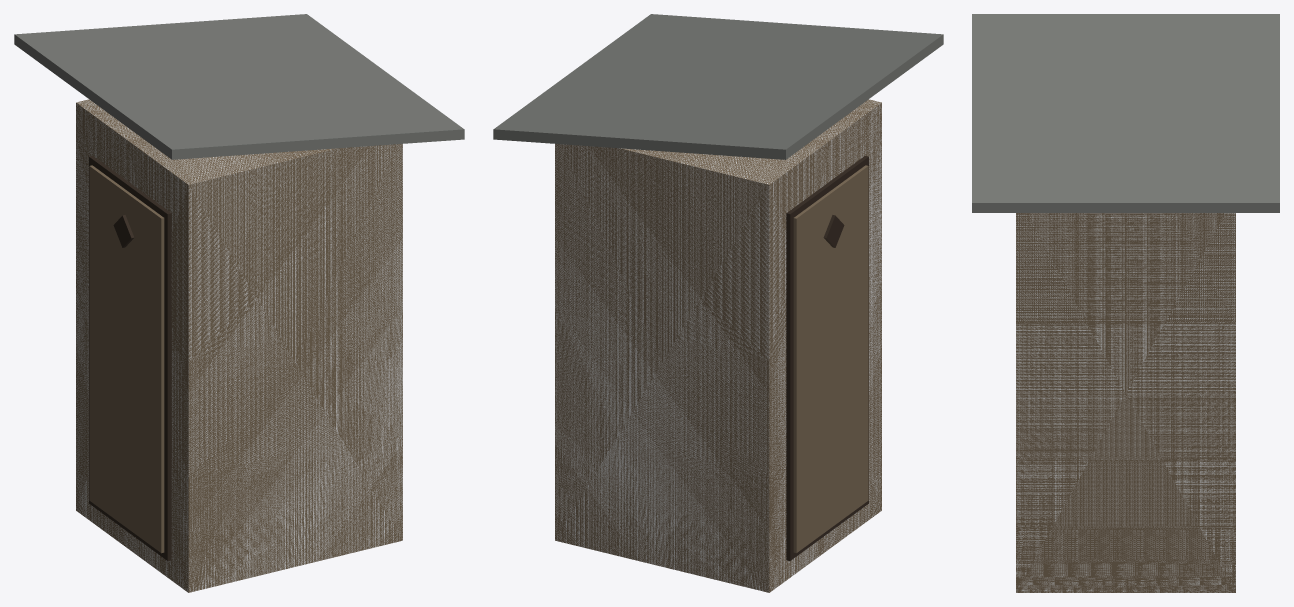
Rendered from izba-outhouse.glb.
The picture shows the model from 3 angles, left to right: view 1: azimuth 30°, elevation 25°; view 2: azimuth 150°, elevation 25°; view 3: azimuth 270°, elevation 25°; orthographic projection. The views are drawn at different scales.
Visible parts, largest first — view 1: 00_#7a6a56, solid, 02_paint2, 01_#3a3028; view 2: 00_#7a6a56, solid, 02_paint2, 01_#3a3028; view 3: 00_#7a6a56, 02_paint2, solid.
Boxes of the visible parts, <box> form: 00_#7a6a56: <box>76,99,402,592</box>; solid: <box>76,99,402,592</box>; 02_paint2: <box>14,14,464,159</box>; 01_#3a3028: <box>89,155,171,560</box>; 00_#7a6a56: <box>555,99,881,592</box>; solid: <box>555,99,881,592</box>; 02_paint2: <box>493,14,943,159</box>; 01_#3a3028: <box>786,155,868,560</box>; 00_#7a6a56: <box>1016,213,1235,592</box>; 02_paint2: <box>972,14,1279,212</box>; solid: <box>1016,213,1235,592</box>.
Size of the model in its own units: 1.5 by 2.3 by 1.4.
